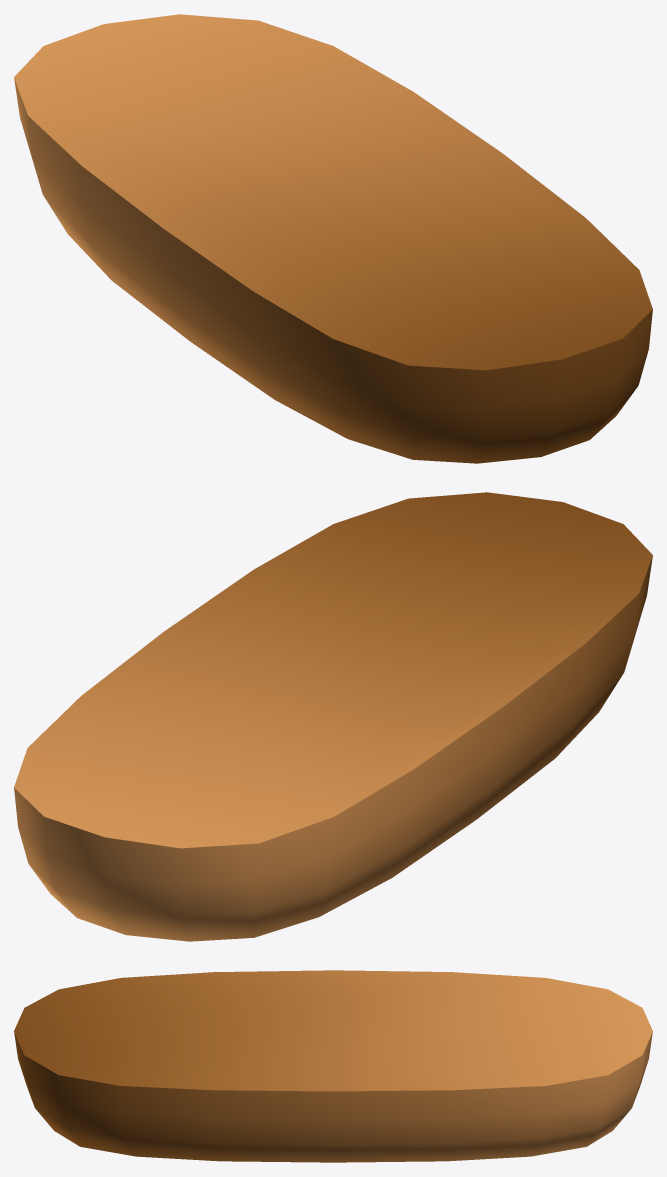
File: Bread_1 Tall Half_1.fbx
3 views of the same model, one above another, from view 1: azimuth 30°, elevation 25°; view 2: azimuth 150°, elevation 25°; view 3: azimuth 270°, elevation 25° (orthographic). The views are drawn at different scales.
Parts seen in each view (by area): view 1: Bread_1 Tall Half_1; view 2: Bread_1 Tall Half_1; view 3: Bread_1 Tall Half_1.
Part boxes in pixels (bbox=[...]): Bread_1 Tall Half_1: bbox=[14, 14, 652, 463]; Bread_1 Tall Half_1: bbox=[14, 492, 652, 941]; Bread_1 Tall Half_1: bbox=[14, 970, 652, 1162].
Size of the model in its own units: 0.089 by 0.031 by 0.2078.
